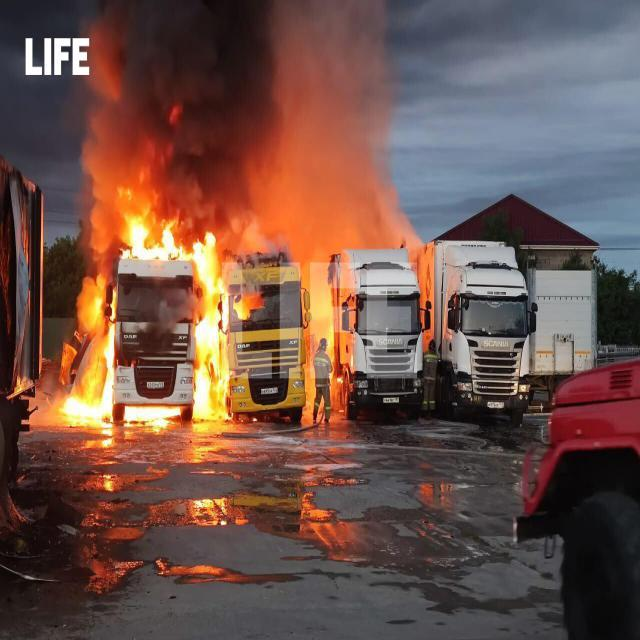Fire: (61, 208, 230, 422)
Smoke: (74, 0, 423, 261)
